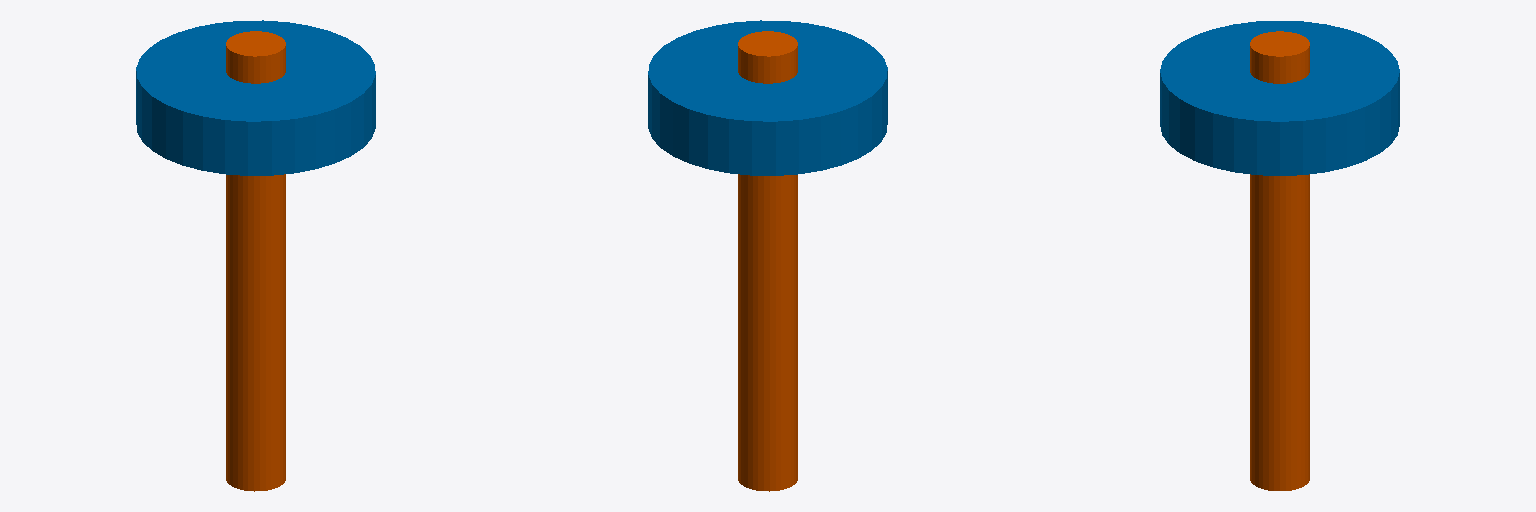
URDF robot description (robot_arm):
<?xml version="1.0" ?>
<!-- =================================================================================== -->
<!-- |    This document was autogenerated by xacro from [local-path]/catkin_ws/src/sketch_follower/robot_description/urdf/2_dof_arm.xacro | -->
<!-- |    EDITING THIS FILE BY HAND IS NOT RECOMMENDED                                 | -->
<!-- =================================================================================== -->
<robot name="robot_arm">
    <material name="blue">
        <color rgba="0 0.5 1 1" />
    </material>
    <material name="green">
        <color rgba="0 1 0.5 1" />
    </material>
    <material name="red">
        <color rgba="1 0.5 0.5 1" />
    </material>
    <material name="purple">
        <color rgba="0.8 0 1 1" />
    </material>
    <gazebo>
        <plugin filename="libgazebo_ros_control.so" name="gazebo_ros_control">
            <robotNamespace>/</robotNamespace>
        </plugin>
    </gazebo>
    <link name="world" />
    <link name="base_link">
        <inertial>
            <origin rpy="0.0 0.0 0.0" xyz="0 0.0 0.4" />
            <mass value="1.2" />
            <inertia ixx="0.12025" ixy="0.0" ixz="0.0" iyy="0.12025" iyz="0.0" izz="0.11249999999999999" />
        </inertial>
        <visual>
            <origin rpy="0 0.0 0.0" xyz="0.0 0.0 0.0" />
            <geometry>
                <mesh filename="package://sketch_follower/robot_description/meshes/base_link.stl" scale="0.005 0.005 0.005" />
            </geometry>
            <material name="blue" />
        </visual>
        <collision>
            <origin rpy="0.0 0.0 0.0" xyz="0.0 0.0 0.0" />
            <geometry>
                <mesh filename="package://sketch_follower/robot_description/meshes/base_link.stl" scale="0.005 0.005 0.005" />
            </geometry>
        </collision>
    </link>
    <gazebo reference="base_link">
        <material>Gazebo/White</material>
    </gazebo>
    <joint name="base_joint" type="fixed">
        <origin rpy="0.0 0.0 0.0" xyz="0.0 0.0 0" />
        <parent link="world" />
        <child link="base_link" />
    </joint>
    <link name="link_0">
        <inertial>
            <origin rpy="0.0 0.0 0.0" xyz="0 0.0 0.05" />
            <mass value="0.3" />
            <inertia ixx="0.10024999999999999" ixy="0.0" ixz="0.0" iyy="0.0065" iyz="0.0" izz="0.10625" />
        </inertial>
        <visual>
            <origin rpy="0.0 0.0 0.0" xyz="0 0.0 0.0" />
            <geometry>
                <mesh filename="package://sketch_follower/robot_description/meshes/link.stl" scale="0.005 0.005 0.005" />
            </geometry>
            <material name="green" />
        </visual>
        <collision>
            <origin rpy="0.0 0.0 0.0" xyz="0.0 0.0 0.0" />
            <geometry>
                <mesh filename="package://sketch_follower/robot_description/meshes/base_link.stl" scale="0.005 0.005 0.005" />
            </geometry>
        </collision>
    </link>
    <gazebo reference="link_0">
        <material>Gazebo/Black</material>
    </gazebo>
    <joint name="link_0_joint" type="continuous">
        <origin rpy="0.0 0.0 0.0" xyz="0 0.0 0.55" />
        <parent link="base_link" />
        <child link="link_0" />
        <axis xyz="0.0 0.0 1.0" />
        <dynamics damping="2.0" friction="2.0" />
    </joint>
    <transmission name="link_0_joint_transmission">
        <type>transmission_interface/SimpleTransmission</type>
        <joint name="link_0_joint">
            <hardwareInterface>hardware_interface/EffortJointInterface</hardwareInterface>
        </joint>
        <actuator name="link_0_joint_actuator">
            <hardwareInterface>hardware_interface/EffortJointInterface</hardwareInterface>
            <mechanicalReduction>1</mechanicalReduction>
        </actuator>
    </transmission>
    <link name="link_1">
        <inertial>
            <origin rpy="0.0 0.0 0.0" xyz="0 0.0 0.05" />
            <mass value="0.3" />
            <inertia ixx="0.10024999999999999" ixy="0.0" ixz="0.0" iyy="0.0065" iyz="0.0" izz="0.10625" />
        </inertial>
        <visual>
            <origin rpy="0.0 0.0 0.0" xyz="0 0.0 0.0" />
            <geometry>
                <mesh filename="package://sketch_follower/robot_description/meshes/link.stl" scale="0.005 0.005 0.005" />
            </geometry>
            <material name="red" />
        </visual>
        <collision>
            <origin rpy="0.0 0.0 0.0" xyz="0.0 0.0 0.0" />
            <geometry>
                <mesh filename="package://sketch_follower/robot_description/meshes/base_link.stl" scale="0.005 0.005 0.005" />
            </geometry>
        </collision>
    </link>
    <gazebo reference="link_1">
        <material>Gazebo/White</material>
    </gazebo>
    <joint name="link_1_joint" type="continuous">
        <origin rpy="0.0 0.0 0.0" xyz="0 1.51 0.1" />
        <parent link="link_0" />
        <child link="link_1" />
        <axis xyz="0.0 0.0 1.0" />
        <dynamics damping="2.0" friction="2.0" />
    </joint>
    <transmission name="link_1_joint_transmission">
        <type>transmission_interface/SimpleTransmission</type>
        <joint name="link_1_joint">
            <hardwareInterface>hardware_interface/EffortJointInterface</hardwareInterface>
        </joint>
        <actuator name="link_1_joint_actuator">
            <hardwareInterface>hardware_interface/EffortJointInterface</hardwareInterface>
            <mechanicalReduction>1</mechanicalReduction>
        </actuator>
    </transmission>
    <link name="sketch_follower">
        <visual>
            <origin rpy="0.0 0.0 0.0" xyz="0.0 0.0 0.0" />
            <geometry>
                <cylinder length="0.1" radius="0.2" />
                <material name="purple" />
            </geometry>
        </visual>
        <collision>
            <geometry>
                <cylinder length="0.1" radius="0.2" />
            </geometry>
        </collision>
        <inertial>
            <origin rpy="0.0 0.2 0.05" xyz="0 0.0 0.05" />
            <mass value="0.2" />
            <inertia ixx="0.0020416667" ixy="0.0" ixz="0.0" iyy="0.0020416667" iyz="0.0" izz="0.00025" />
        </inertial>
    </link>
    <gazebo reference="sketch_follower">
        <material>Gazebo/Black</material>
    </gazebo>
    <joint name="sketch_follower_joint" type="continuous">
        <parent link="link_1" />
        <child link="sketch_follower" />
        <origin rpy="0.0 0.0 0.0" xyz="0.0 1.5 0" />
        <axis xyz="0.0 0.0 1.0" />
        <dynamics damping="3.0" friction="3.0" />
    </joint>
    <transmission name="sketch_follower_joint_transmission">
        <type>transmission_interface/SimpleTransmission</type>
        <joint name="sketch_follower_joint">
            <hardwareInterface>hardware_interface/EffortJointInterface</hardwareInterface>
        </joint>
        <actuator name="sketch_follower_joint_actuator">
            <hardwareInterface>hardware_interface/EffortJointInterface</hardwareInterface>
            <mechanicalReduction>1</mechanicalReduction>
        </actuator>
    </transmission>
    <link name="pen">
        <visual>
            <origin rpy="0.0 0.0 0.0" xyz="0.0 0.0 0.0" />
            <geometry>
                <cylinder length="0.8" radius="0.05" />
                <material name="purple" />
            </geometry>
        </visual>
        <collision>
            <geometry>
                <cylinder length="0.8" radius="0.05" />
            </geometry>
        </collision>
        <inertial>
            <mass value="0.1" />
            <origin xyz="0 0 0" rpy="0 0 0" />
            <inertia ixx="0.03" iyy="0.03" izz="0.03" ixy="0.0" ixz="0.0" iyz="0.0" />
        </inertial>
    </link>
    <gazebo reference="pen">
        <material>Gazebo/Black</material>
    </gazebo>
    <joint name="pen_joint" type="fixed">
        <parent link="sketch_follower" />
        <child link="pen" />
        <origin rpy="0.0 0.0 0.0" xyz="0.0 0 -0.3" />
    </joint>
</robot>

--- Render facts (derived) ---
Views: 3 orthographic renders of the robot side by side, from view 1: azimuth 30°, elevation 25°; view 2: azimuth 150°, elevation 25°; view 3: azimuth 270°, elevation 25°.
Model robot_arm with 6 links and 5 joints (3 continuous, 2 fixed), rooted at world, posed every joint at zero.
Visible links, largest first — view 1: sketch_follower, pen; view 2: sketch_follower, pen; view 3: sketch_follower, pen.
Link boxes in pixels (box(x1,y1,x2,y2)): sketch_follower: box(136, 20, 375, 175); pen: box(226, 31, 285, 491); sketch_follower: box(648, 20, 887, 175); pen: box(738, 31, 797, 491); sketch_follower: box(1160, 21, 1399, 175); pen: box(1250, 31, 1309, 490).
Bounding box of the posed robot: 0.4 × 0.4 × 0.8 m (x, y, z).
Meshes: 2 distinct files referenced, 0 mesh visuals loaded (none loaded); not drawn: 3 (reference not matched to a file when rendering).